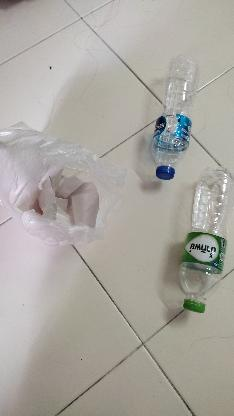Plastic Bag: (0, 115, 130, 248)
Plastic Bottle: (172, 162, 234, 318), (147, 46, 203, 190)
